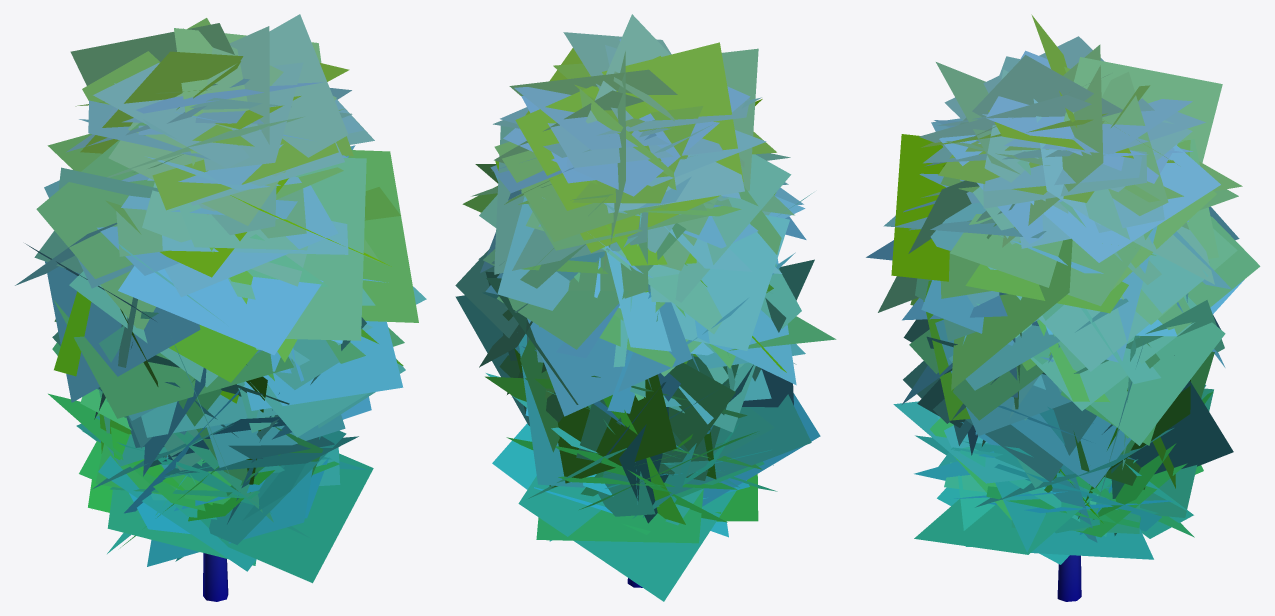
File: windbreak_placeholder.glb
3 views of the same model, side by side, from view 1: azimuth 30°, elevation 25°; view 2: azimuth 150°, elevation 25°; view 3: azimuth 270°, elevation 25° (orthographic). The views are drawn at different scales.
Parts seen in each view (by area): view 1: windbreak_placeholder; view 2: windbreak_placeholder; view 3: windbreak_placeholder.
Part boxes in pixels (bbox=[...]): windbreak_placeholder: bbox=[15, 14, 426, 601]; windbreak_placeholder: bbox=[455, 14, 836, 601]; windbreak_placeholder: bbox=[866, 14, 1260, 601].
Size of what is drawn, in the model's own units: 5.39 by 8.79 by 5.65.
